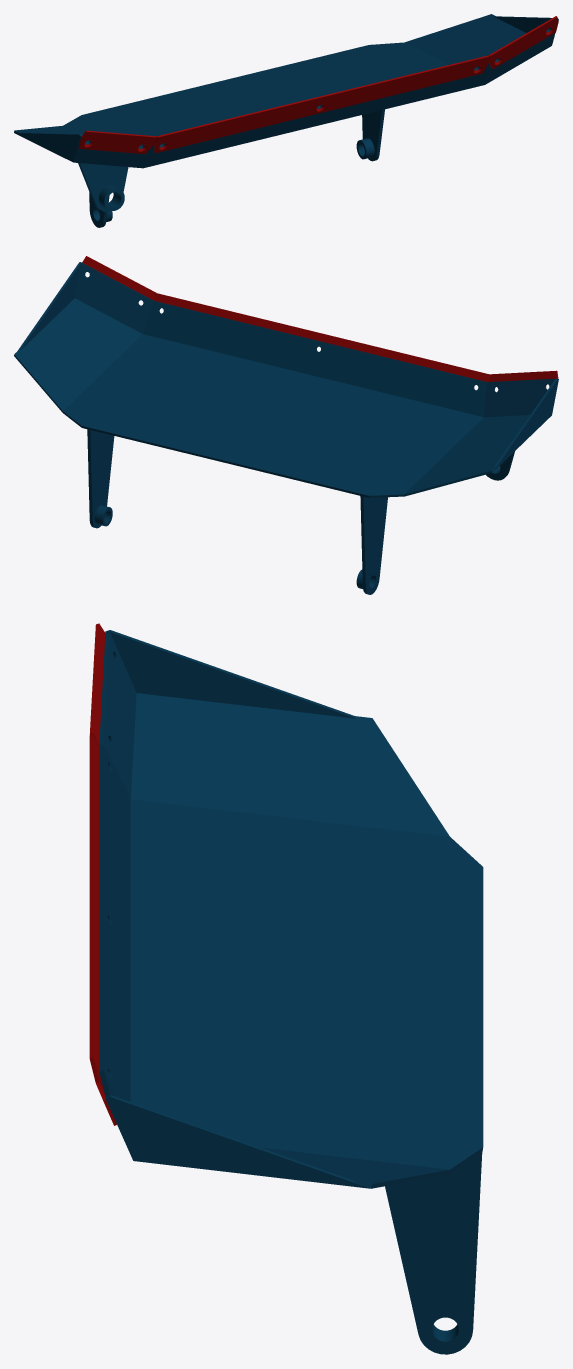
The model's file is blade.dae.
3 views of the same model, one above another, from view 1: azimuth 30°, elevation 25°; view 2: azimuth 150°, elevation 25°; view 3: azimuth 270°, elevation 25° (orthographic). The views are drawn at different scales.
Parts seen in each view (by area): view 1: Body_1, Body_2, Body_3, Body_4; view 2: Body_1, Body_2, Body_4, Body_3; view 3: Body_1, Body_2, Body_3.
Boxes of the visible parts, x1,y1,x2,y2 form: Body_1: (14,14,558,227); Body_2: (154,55,489,153); Body_3: (78,130,156,154); Body_4: (488,16,558,69); Body_1: (14,262,558,594); Body_2: (154,293,488,381); Body_4: (82,256,156,300); Body_3: (488,370,558,389); Body_1: (99,630,483,1354); Body_2: (89,734,99,1071); Body_3: (90,623,105,745).
Size of the model in its own units: 0.7 by 0.2492 by 0.2564.
